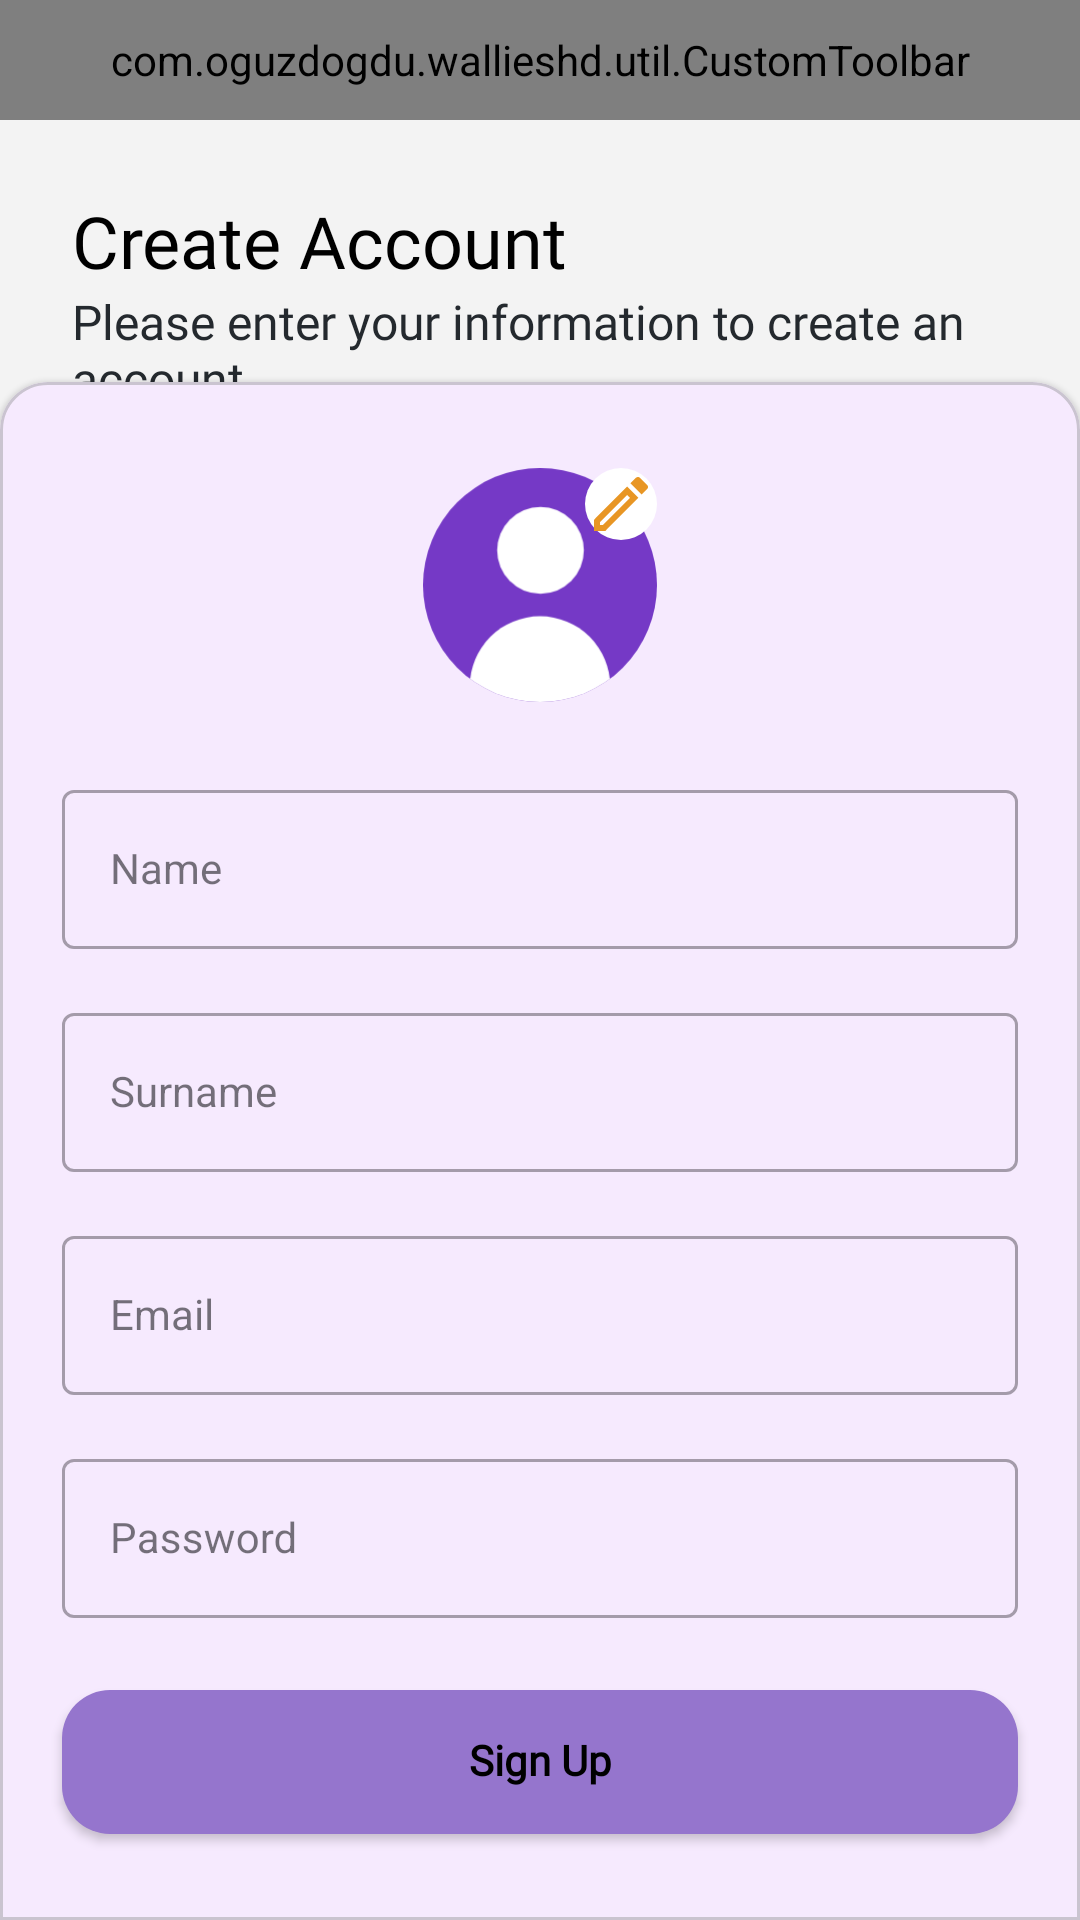

Named icons in this screenshot (1080 × 1920) and their centers, (x,y):
edit photo: (621,504)
